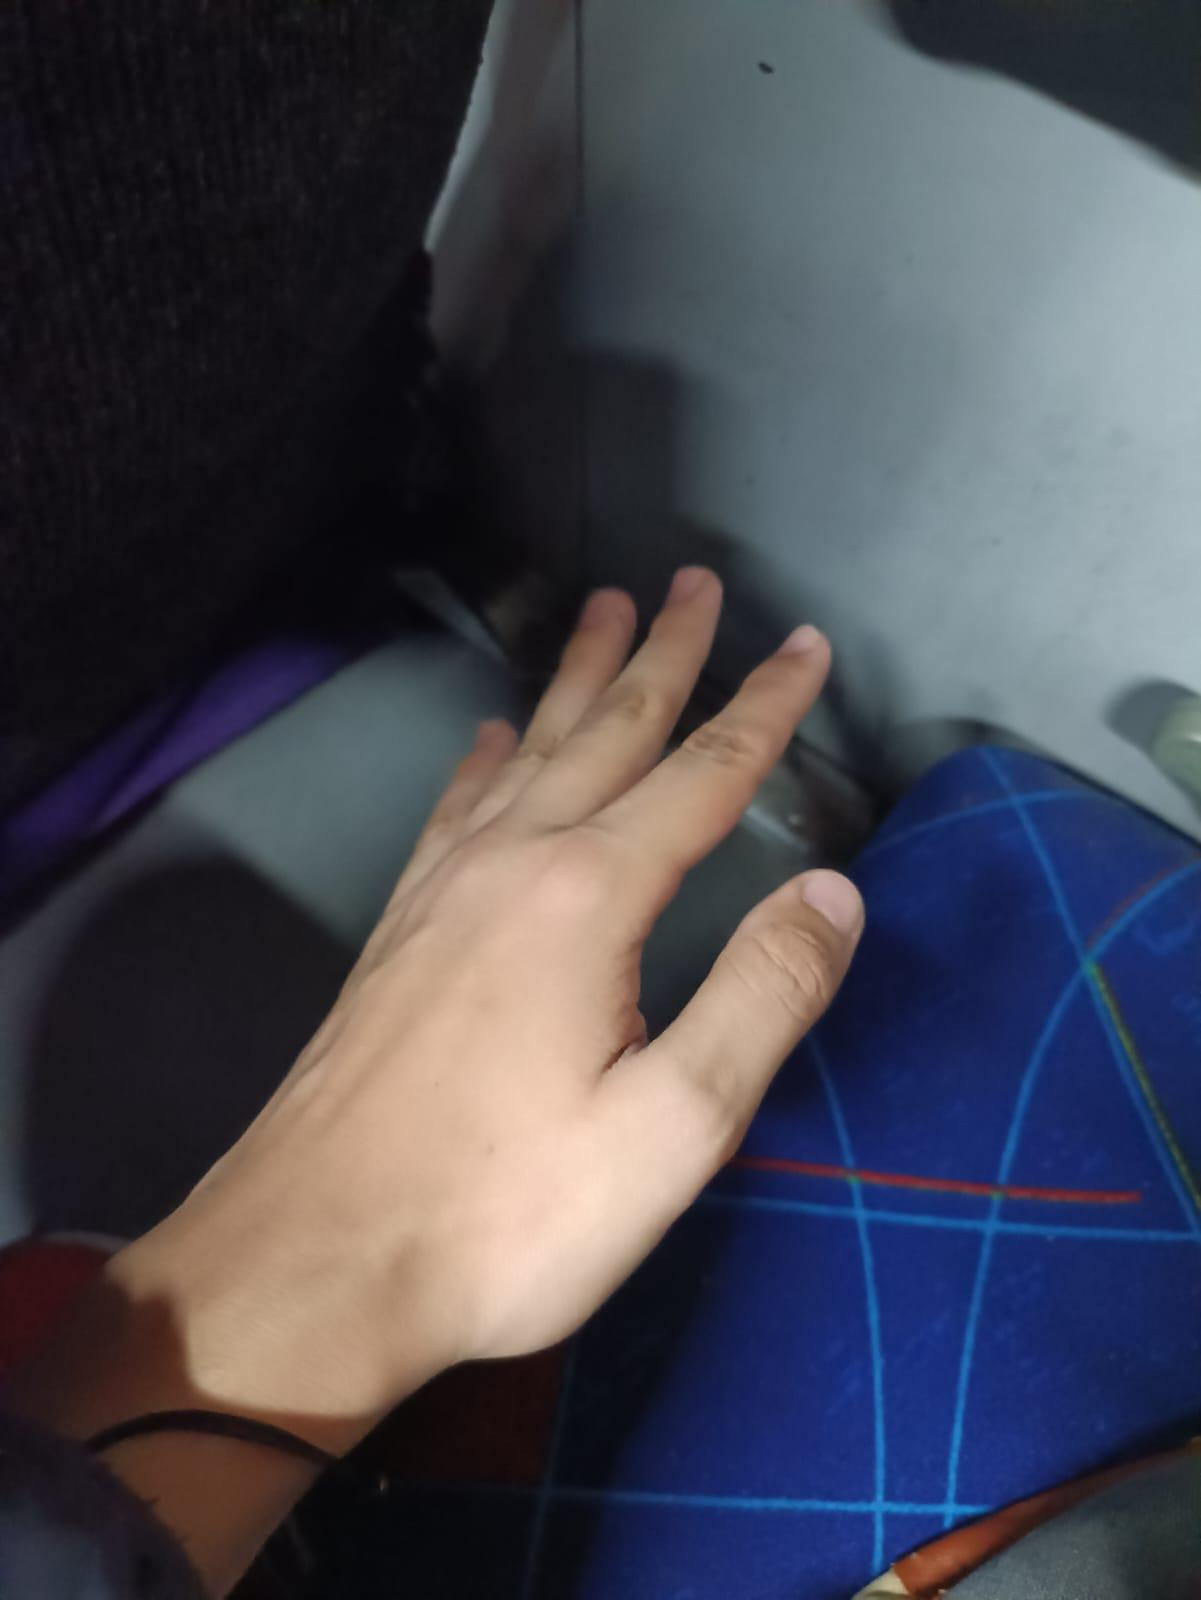Paper: (0, 500, 966, 1529)
